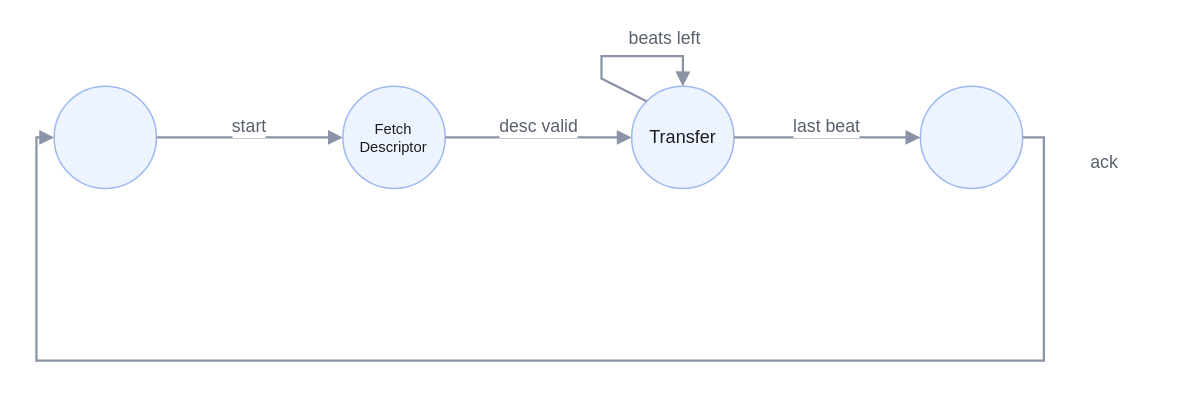
Image size: 1184x401. Some labels were removed from this diagram. The centre of each missing label's shape, as x and y in pixels:
"Done" belongs at pixel 971 137.
"Idle" belongs at pixel 104 137.
